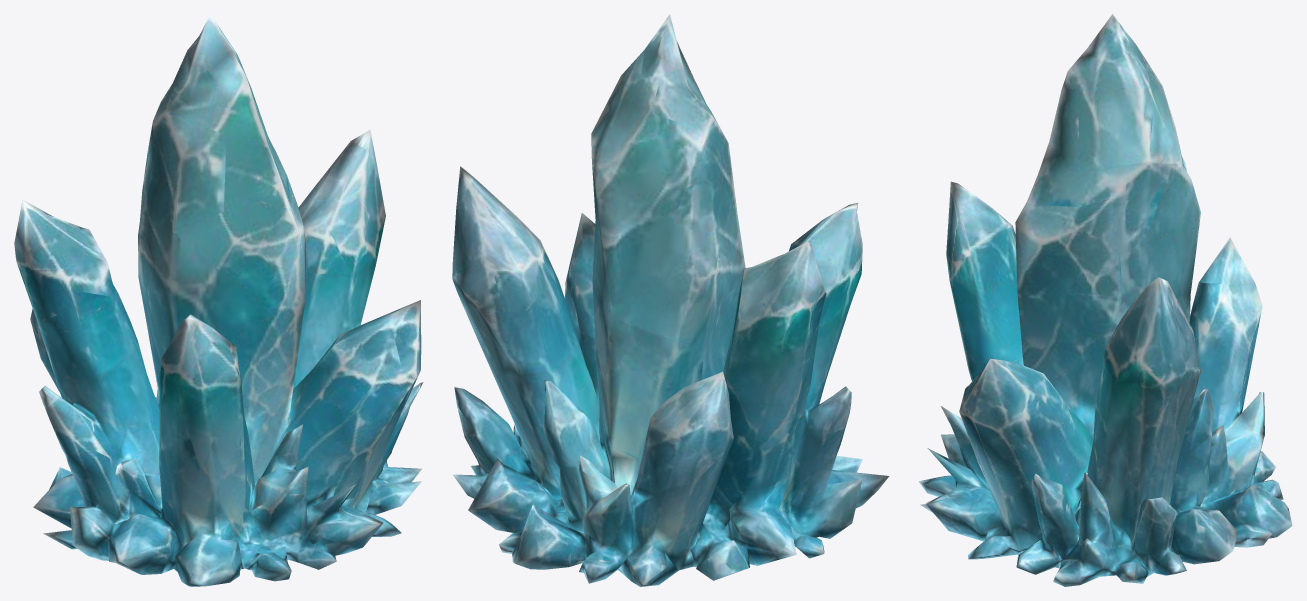
File: event_icebox.glb
3 renders of one model, left to right at view 1: azimuth 30°, elevation 25°; view 2: azimuth 150°, elevation 25°; view 3: azimuth 270°, elevation 25°, orthographic. The views are drawn at different scales.
Bounding box in the file's own units: 1.46 × 1.89 × 1.31.
Materials: 1 (1 with a texture image).
